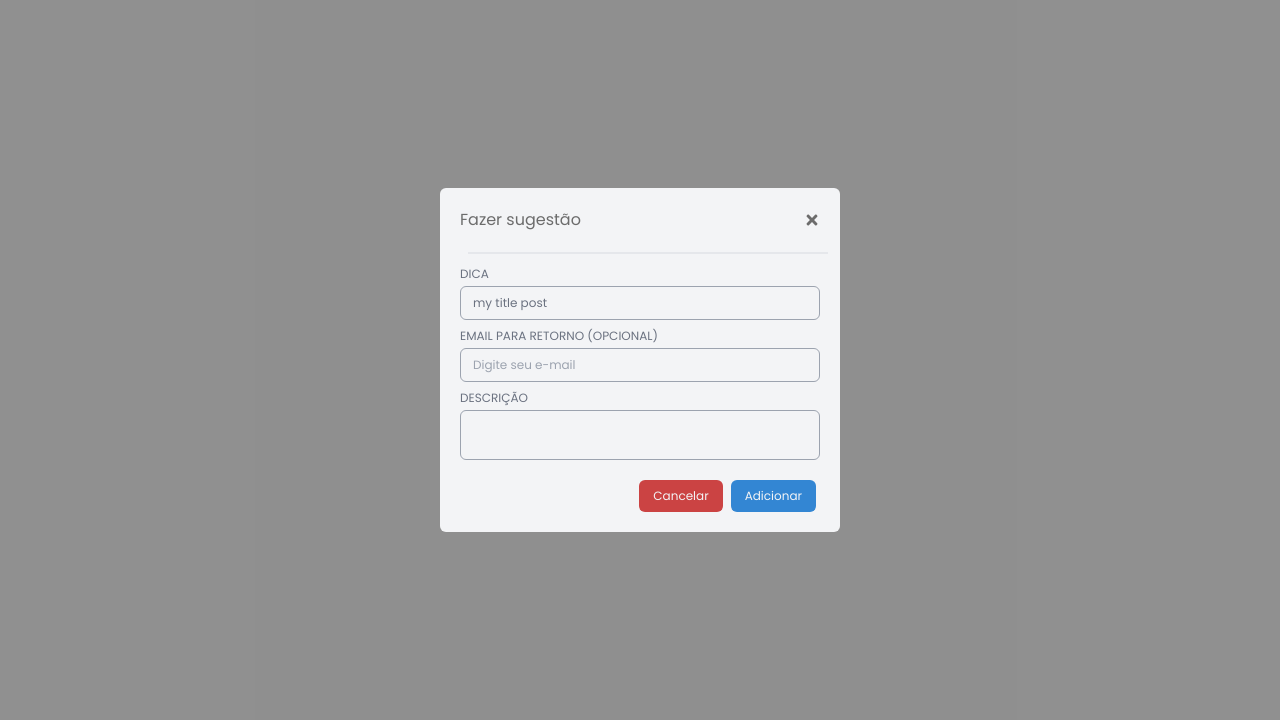
Test: <ModalOfSuggestion /> › should render modal suggestion and send suggestion
The image size is (1280, 720).
Type "myEmail@email.com" into the field labelled "Email para retorno (Opcional)" at (640, 365), box [460,348,820,382]
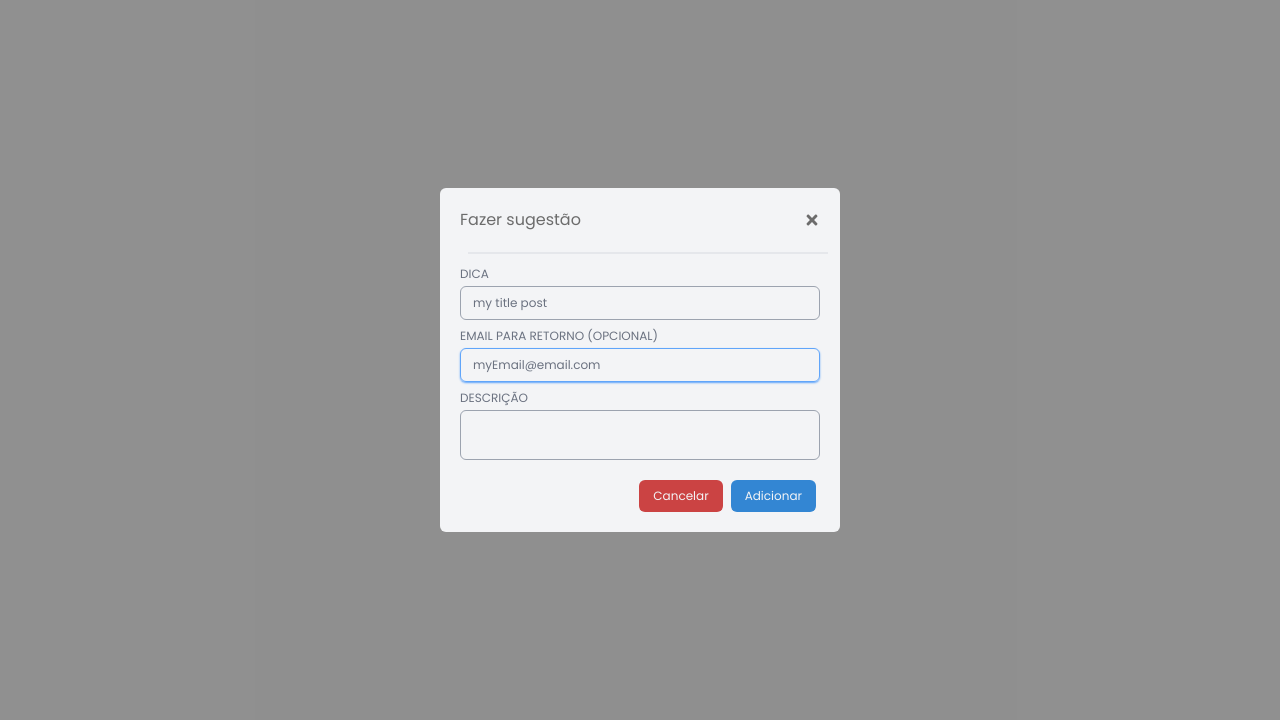
Type "my long description for problem" into the text box labelled "Descrição" at (640, 435), box [460,410,820,460]
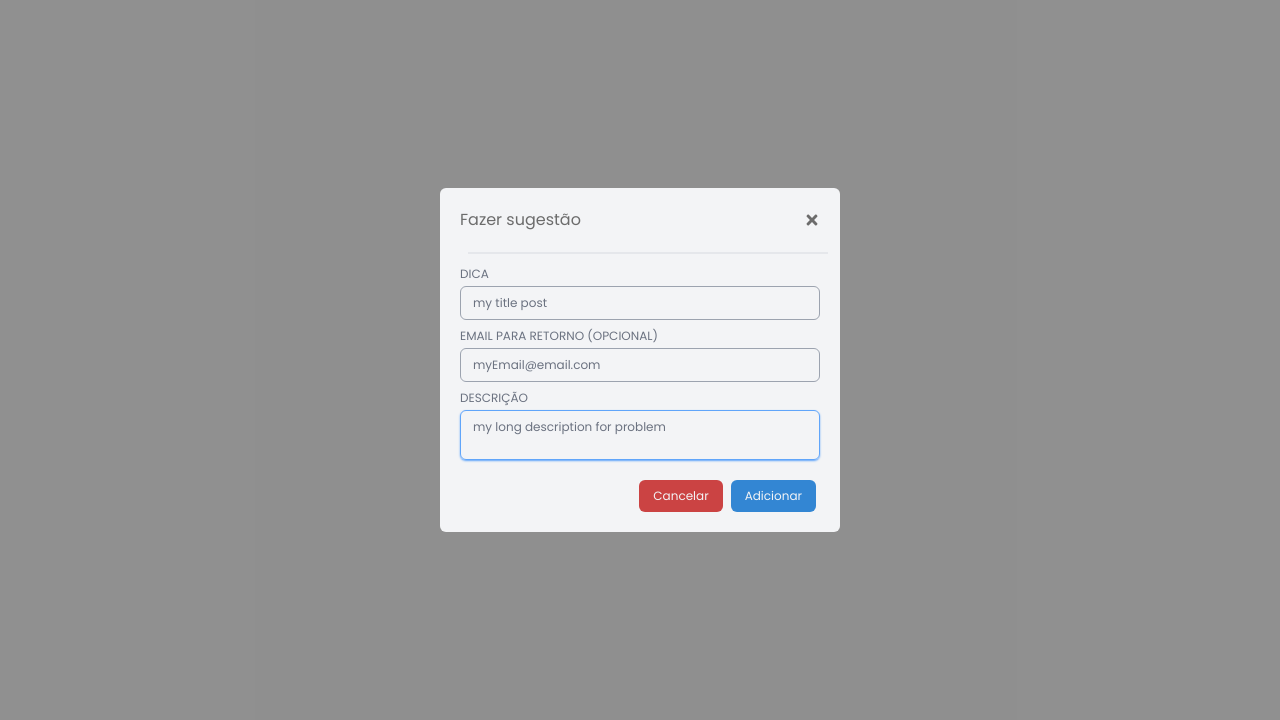
Click the button "Adicionar" at (773, 496), box [731,480,816,512]
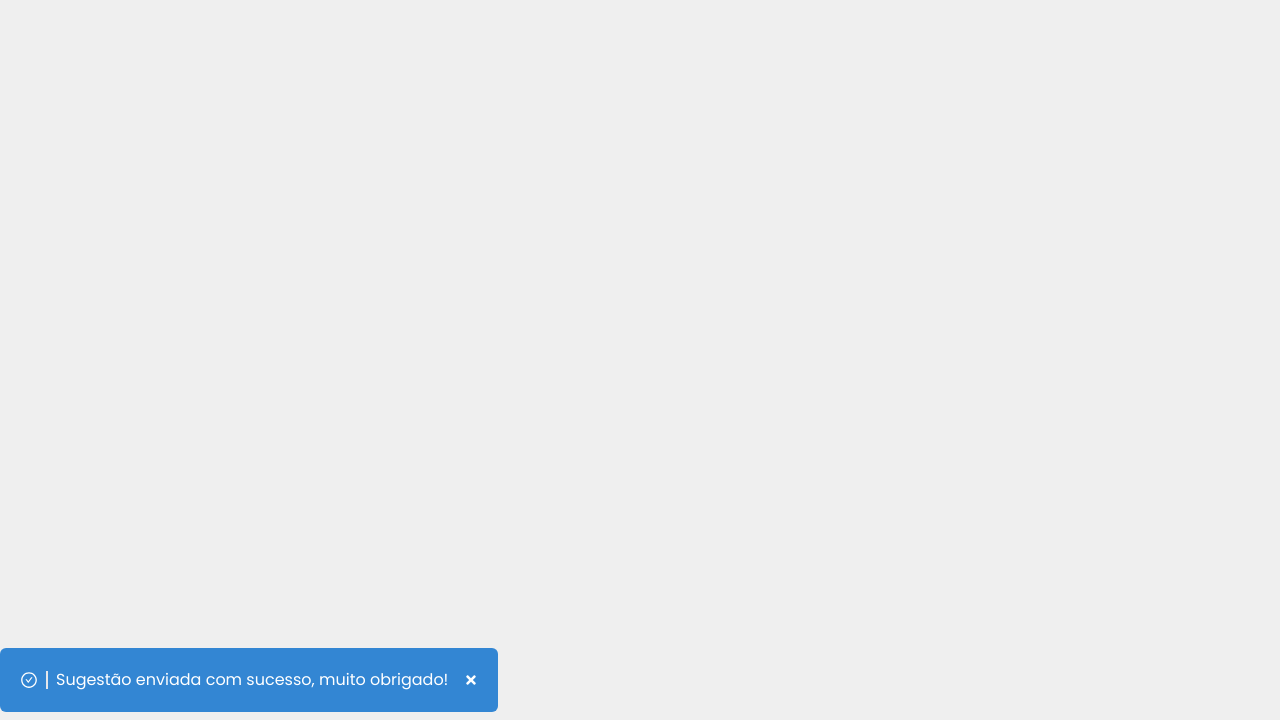
expect the text "Sugestão enviada com sucesso, muito obrigado!" is shown: met, box [56,668,448,692]
